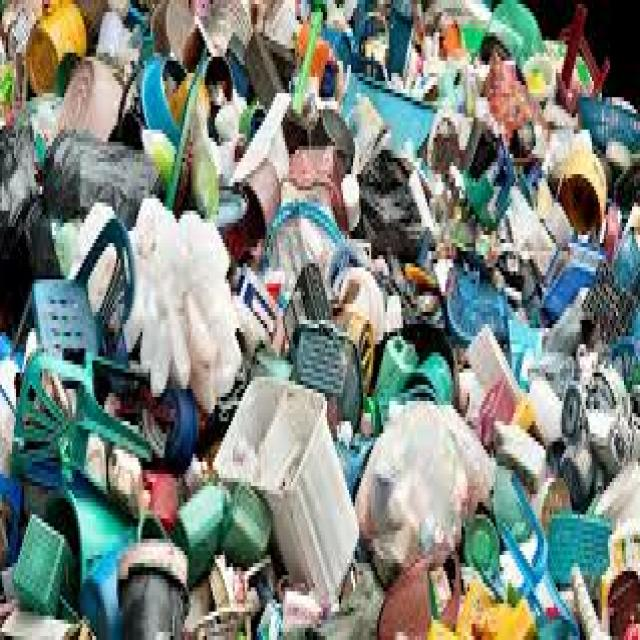heap: (101, 29, 640, 617)
